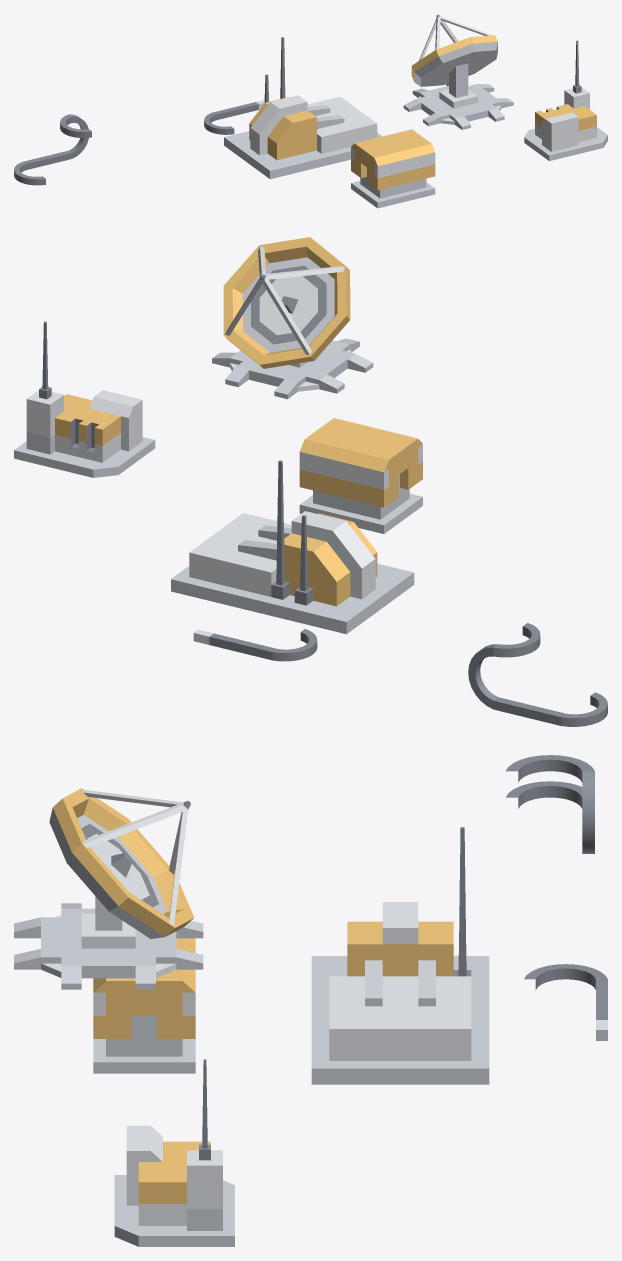
The model's file is lab_lvl3.glb.
The picture shows the model from 3 angles, top to bottom: view 1: azimuth 30°, elevation 25°; view 2: azimuth 150°, elevation 25°; view 3: azimuth 270°, elevation 25°; orthographic projection. The views are drawn at different scales.
Visible parts, largest first — view 1: machine_wireless.001, satelliteDish_detailed.001, machine_generator.001, machine_wirelessCable.001, cable.002, cable.003; view 2: machine_wireless.001, satelliteDish_detailed.001, machine_generator.001, machine_wirelessCable.001, cable.002, cable.003; view 3: machine_wireless.001, satelliteDish_detailed.001, machine_wirelessCable.001, machine_generator.001, cable.002, cable.003.
Part boxes in pixels (<box>): machine_wireless.001: <box>224,37,382,179</box>; satelliteDish_detailed.001: <box>403,14,513,129</box>; machine_generator.001: <box>351,129,435,208</box>; machine_wirelessCable.001: <box>524,40,607,161</box>; cable.002: <box>14,114,91,185</box>; cable.003: <box>204,100,269,134</box>; machine_wireless.001: <box>171,460,414,634</box>; satelliteDish_detailed.001: <box>212,237,373,399</box>; machine_generator.001: <box>299,418,422,533</box>; machine_wirelessCable.001: <box>14,321,155,477</box>; cable.002: <box>468,623,607,726</box>; cable.003: <box>193,629,317,661</box>; machine_wireless.001: <box>311,827,489,1084</box>; satelliteDish_detailed.001: <box>14,788,203,989</box>; machine_wirelessCable.001: <box>114,1059,234,1246</box>; machine_generator.001: <box>93,938,195,1073</box>; cable.002: <box>505,755,594,853</box>; cable.003: <box>524,964,607,1040</box>.
Size of the model in its own units: 3.57 by 1.1 by 1.98.
